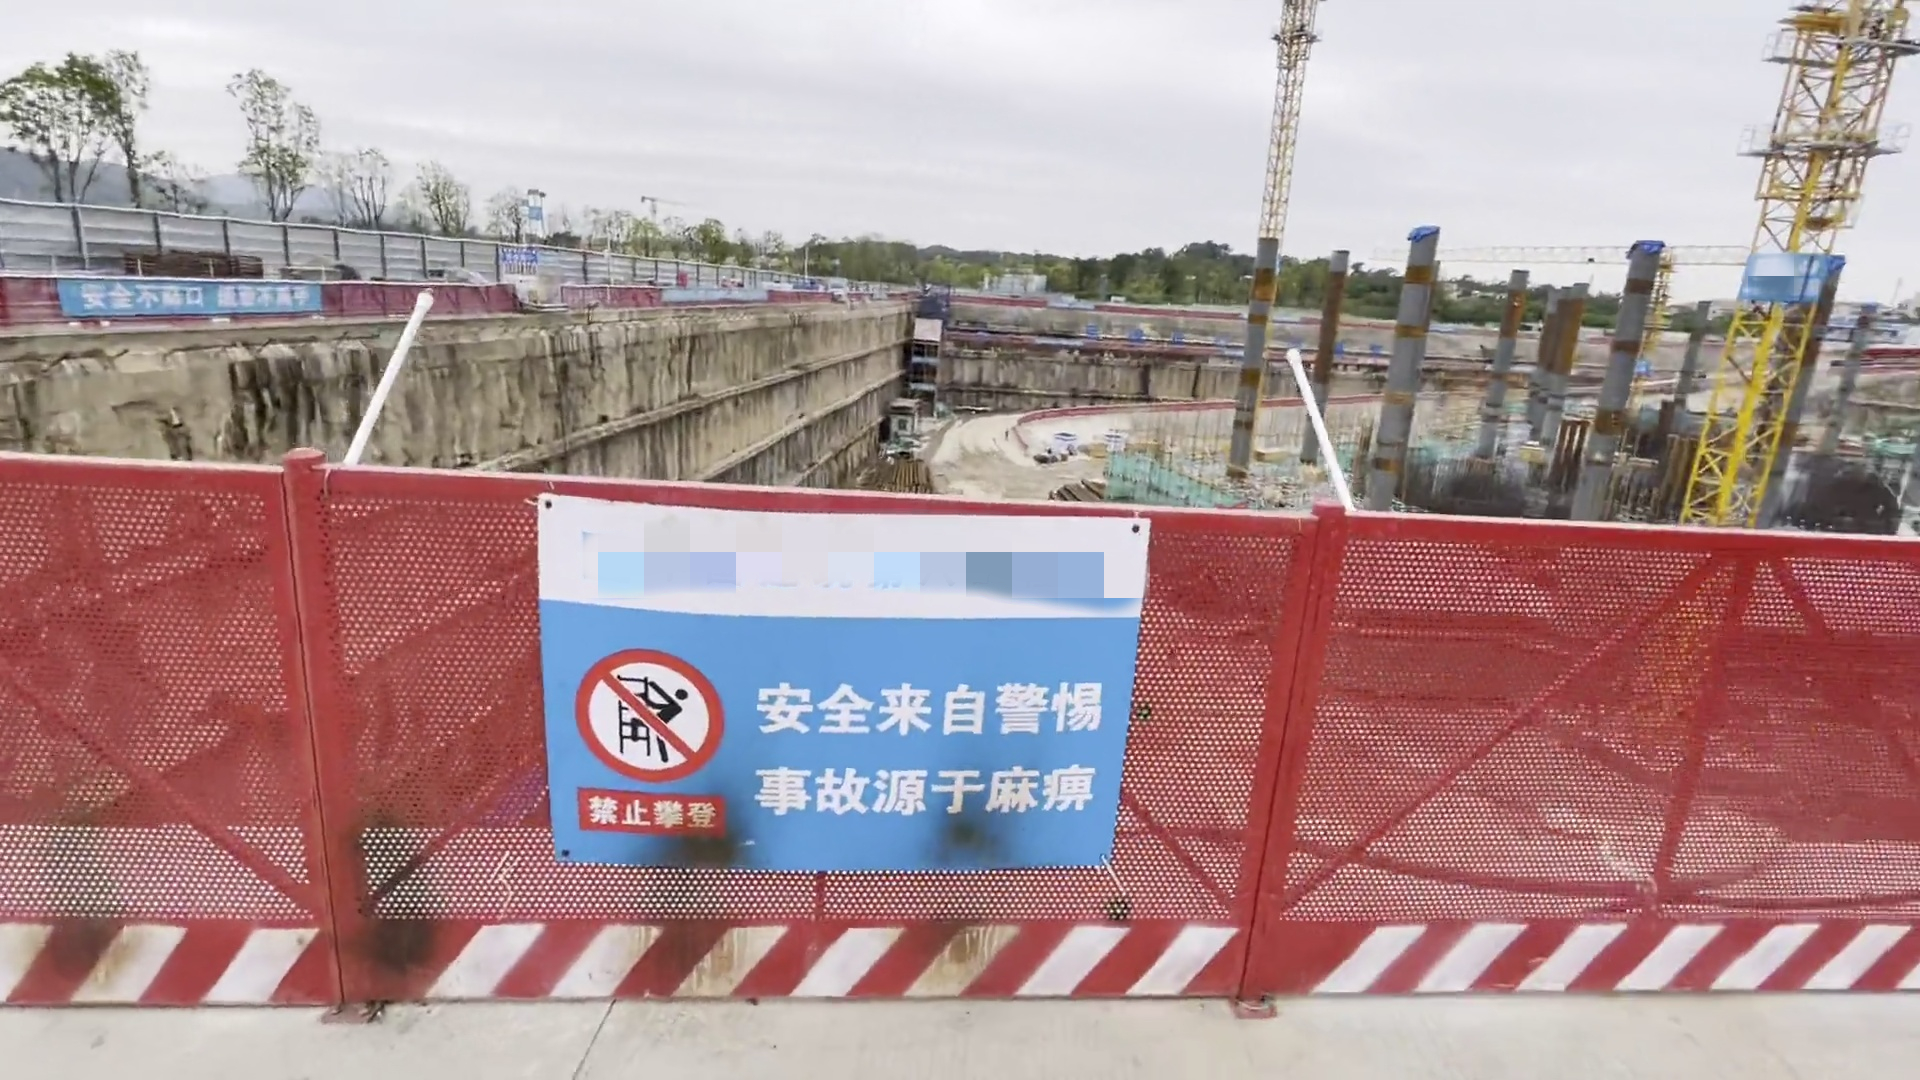fence: (7, 443, 1919, 1007)
slogan: (574, 628, 1106, 865)
